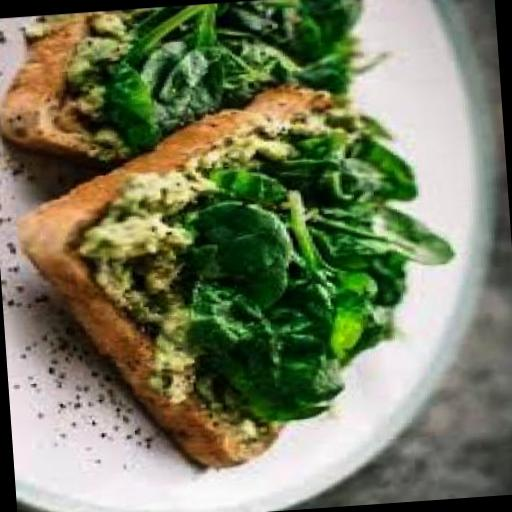biodegradable: (14, 74, 420, 480), (0, 0, 362, 173), (108, 0, 375, 103), (283, 180, 387, 357), (187, 283, 294, 417), (81, 166, 221, 266), (63, 8, 160, 143), (236, 304, 350, 418), (318, 190, 457, 272), (186, 198, 288, 306), (289, 104, 394, 204), (96, 62, 212, 144), (202, 136, 309, 202), (339, 134, 416, 200), (340, 299, 408, 368), (372, 242, 418, 309)
